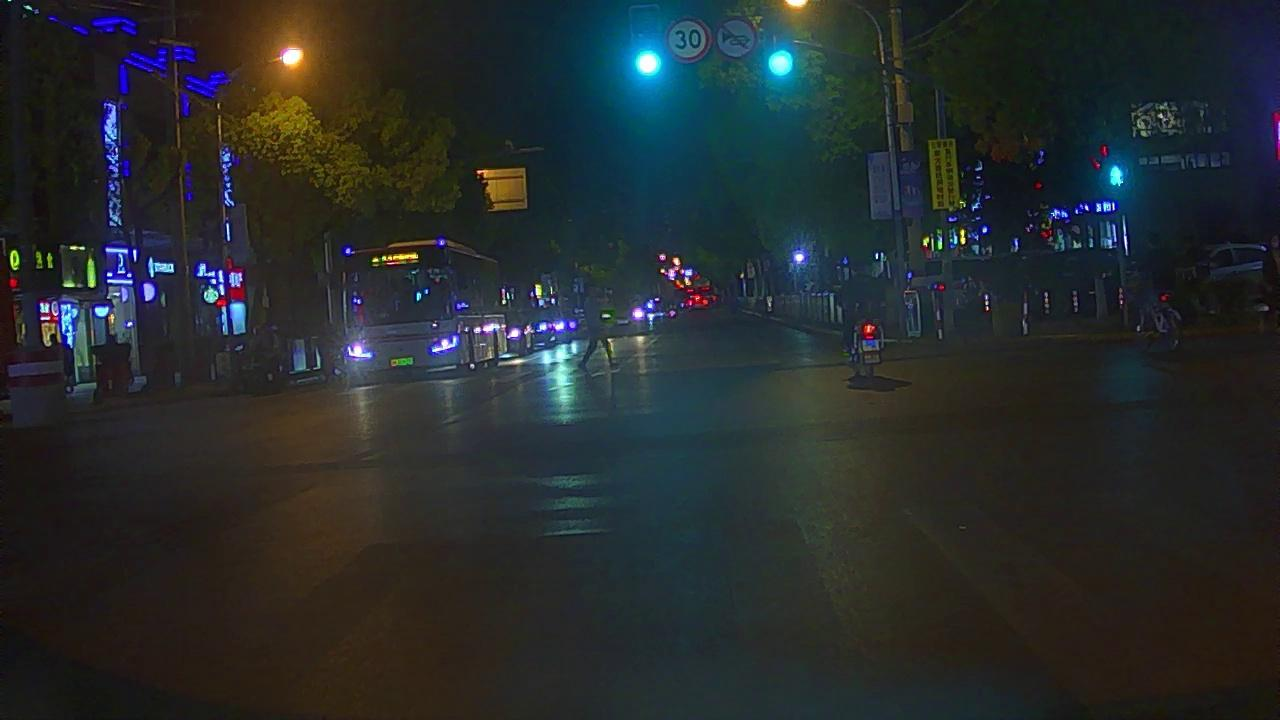traffic_light: (629, 41, 667, 81), (764, 43, 798, 83)
